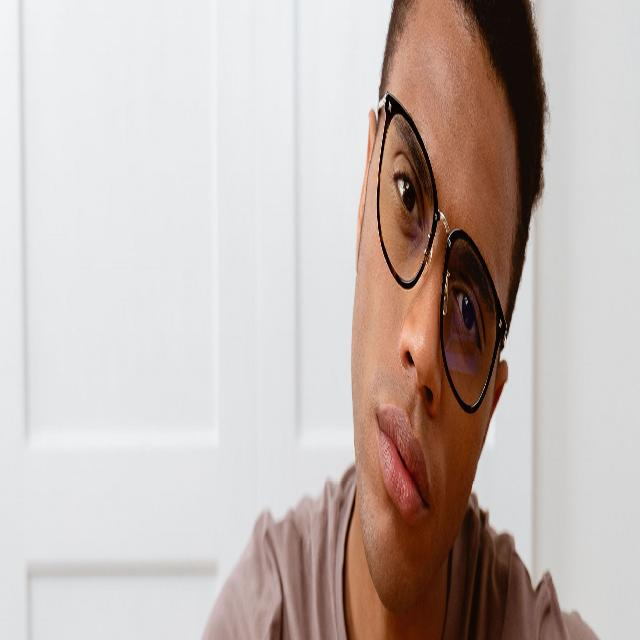Glasses: (375, 84, 507, 423)
